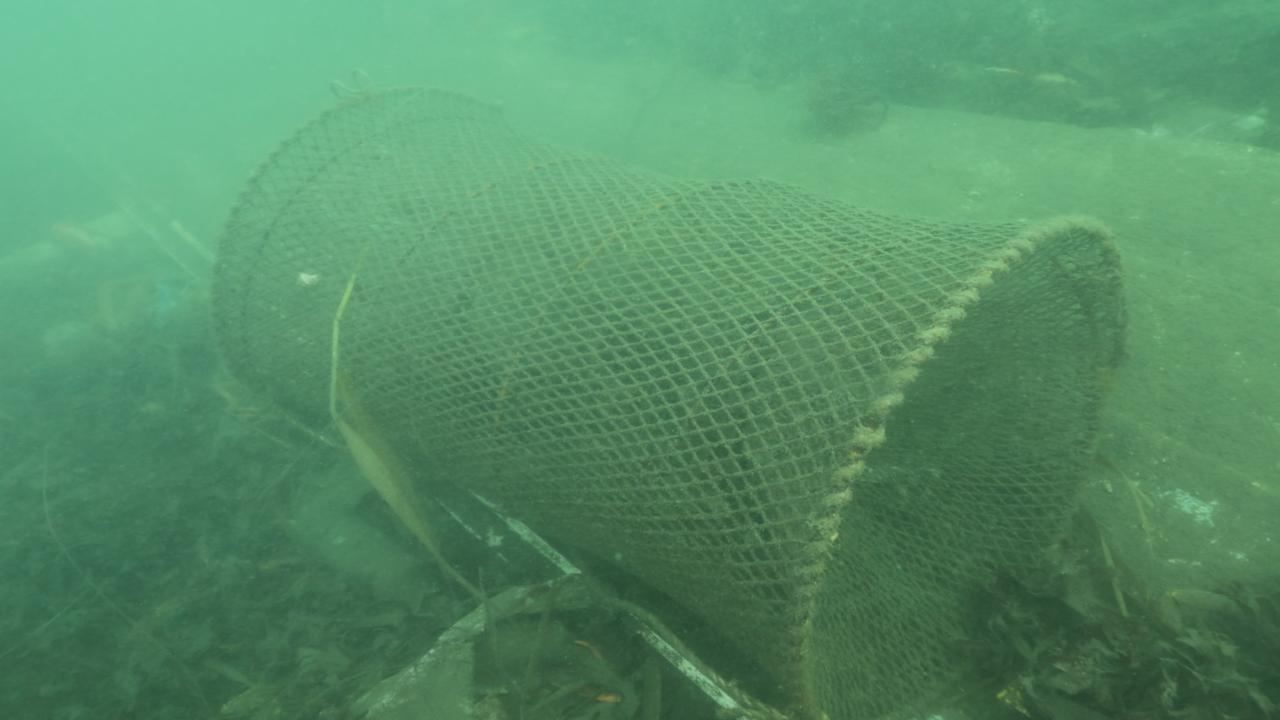spring fish trap: (203, 83, 1133, 720)
